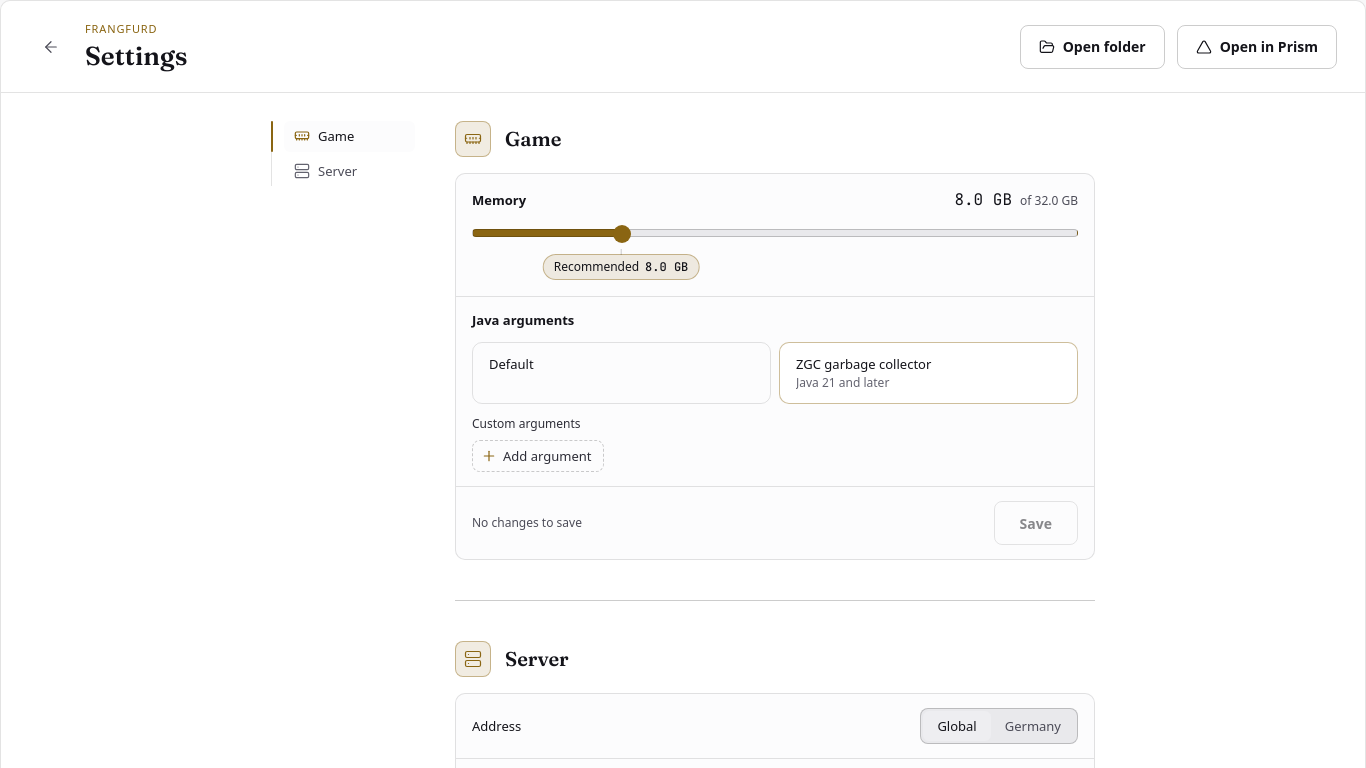
Test: ChapterSettingsPanel › saves a changed memory and preset together and shows what Go wrote
Set the slider labelled "Memory" to "6144" at x=583, y=233, box [472,224,1078,242]
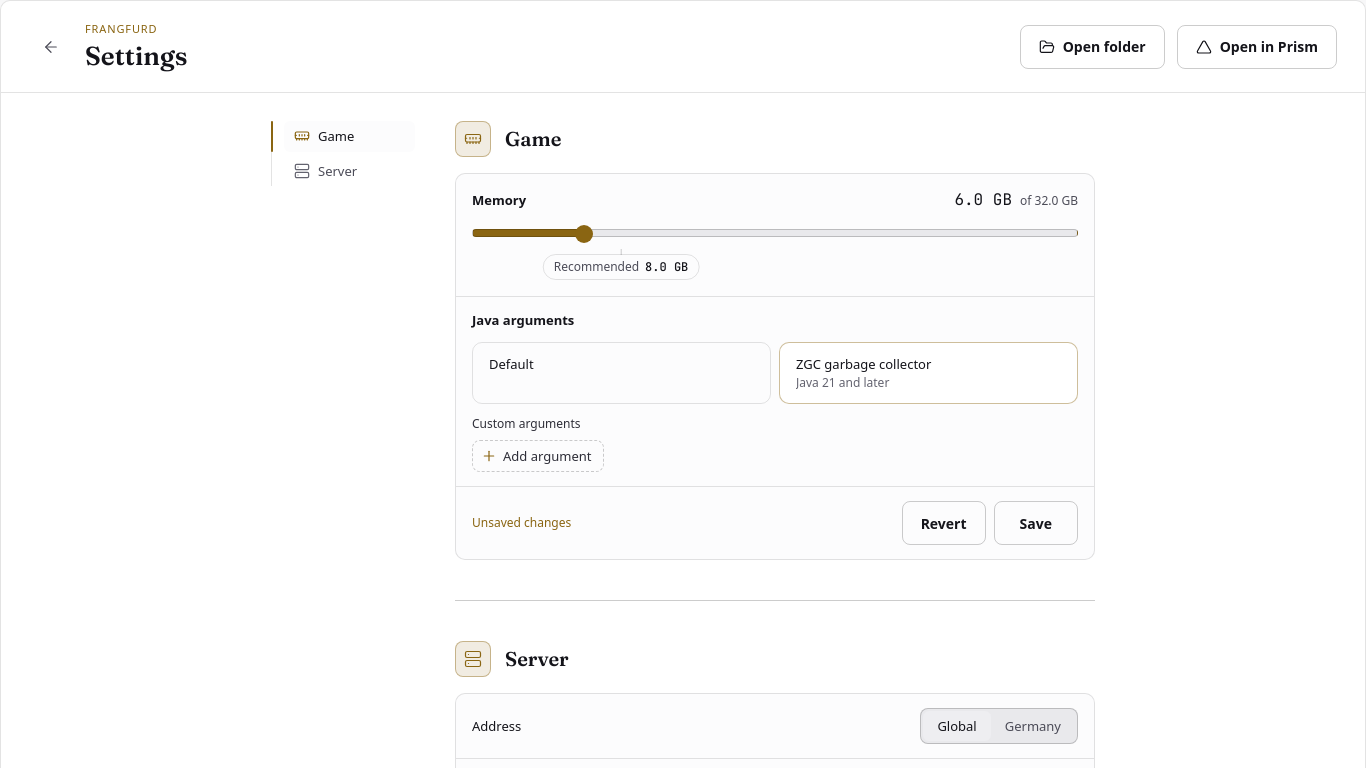
Click the radio button labelled "Default".
click(511, 364)  # box [472,342,771,404]
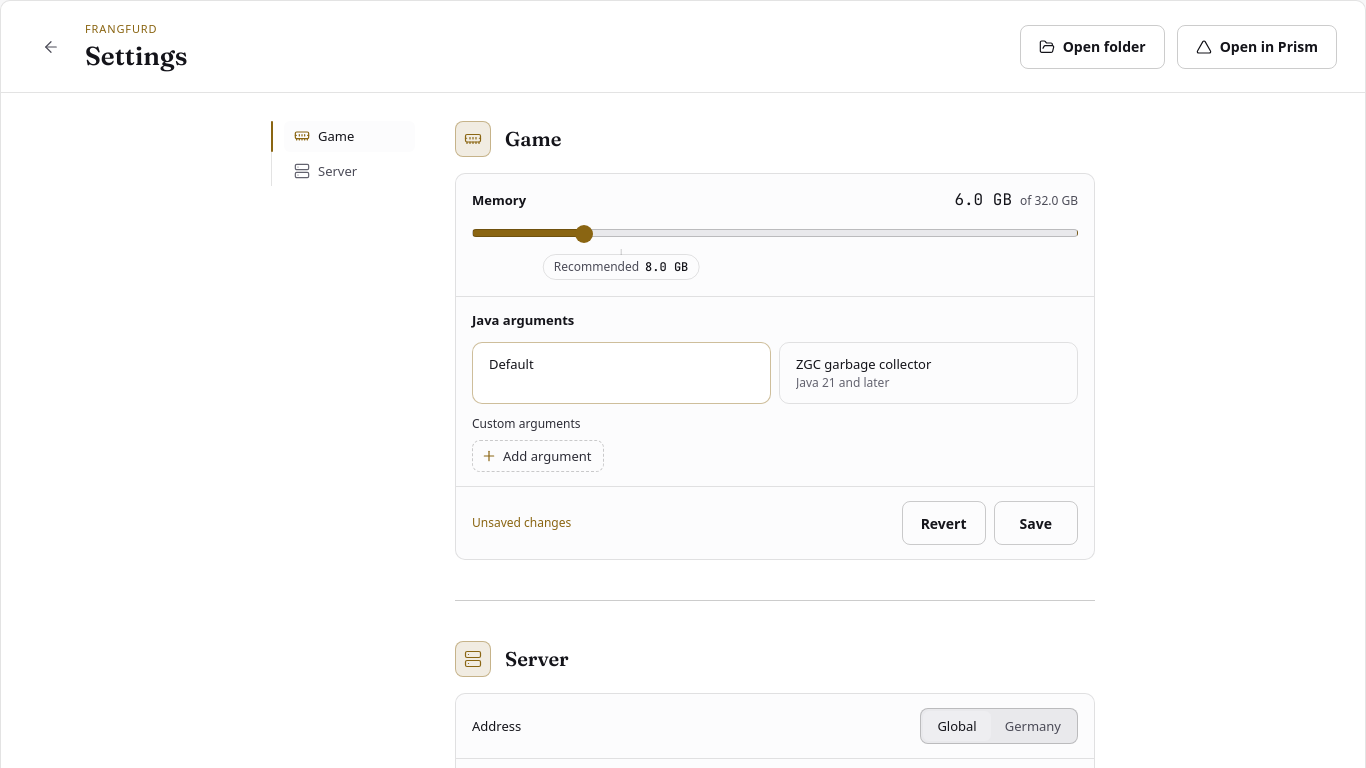
Result: the text "6.0 GB" is shown at [954,188,1012,212]
Click the button "Save".
click(1036, 523)  # box [994,501,1078,545]
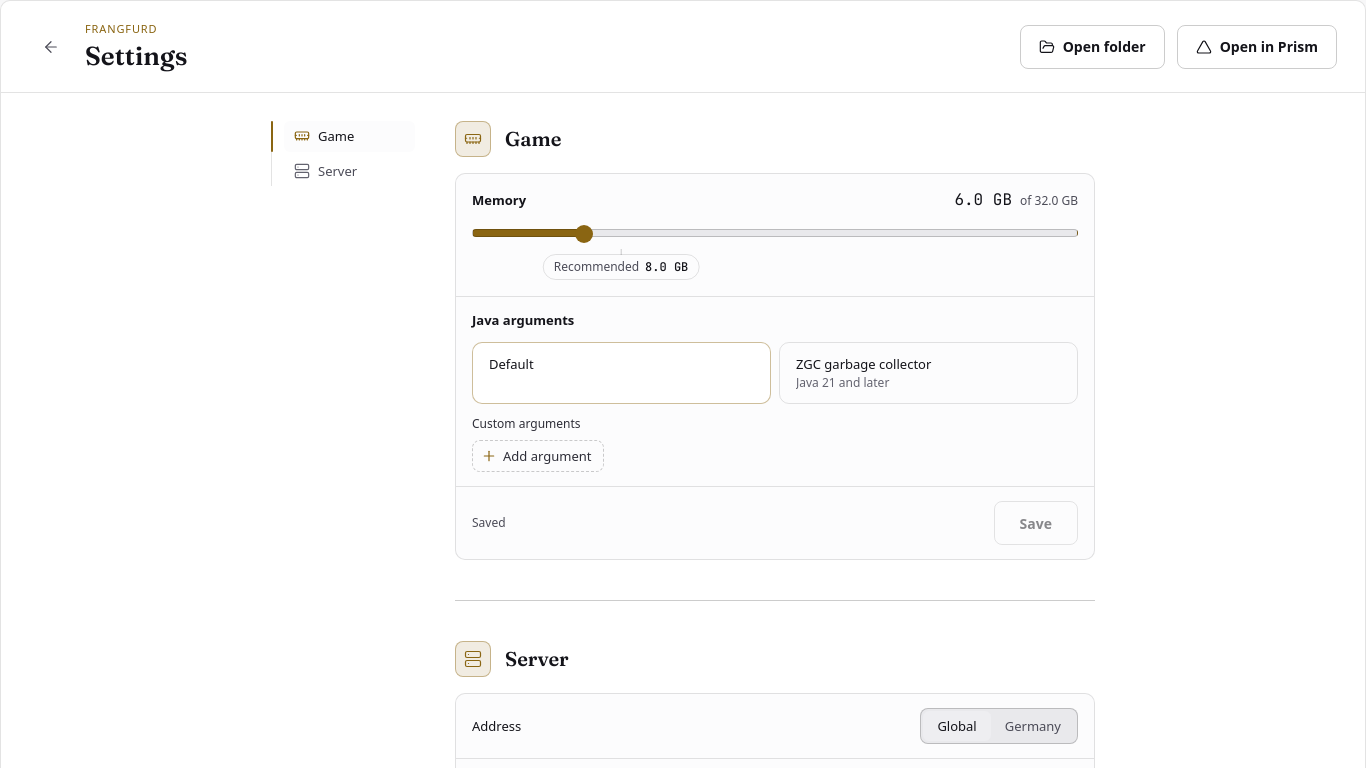
Expected: the radio button labelled "Default" is checked, [472,342,771,404]
Result: the button "Save" is disabled at [994,501,1078,545]
Result: the message reads "Saved" at [472,514,506,531]
